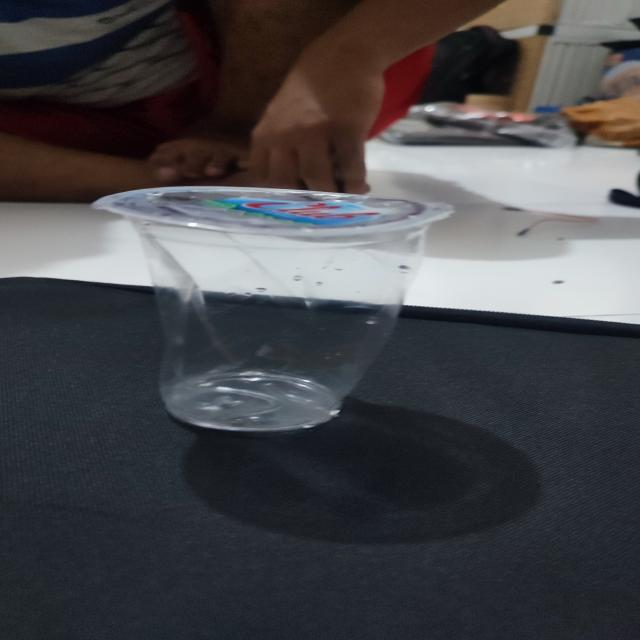air-gelas-rusak: (98, 172, 450, 446)
